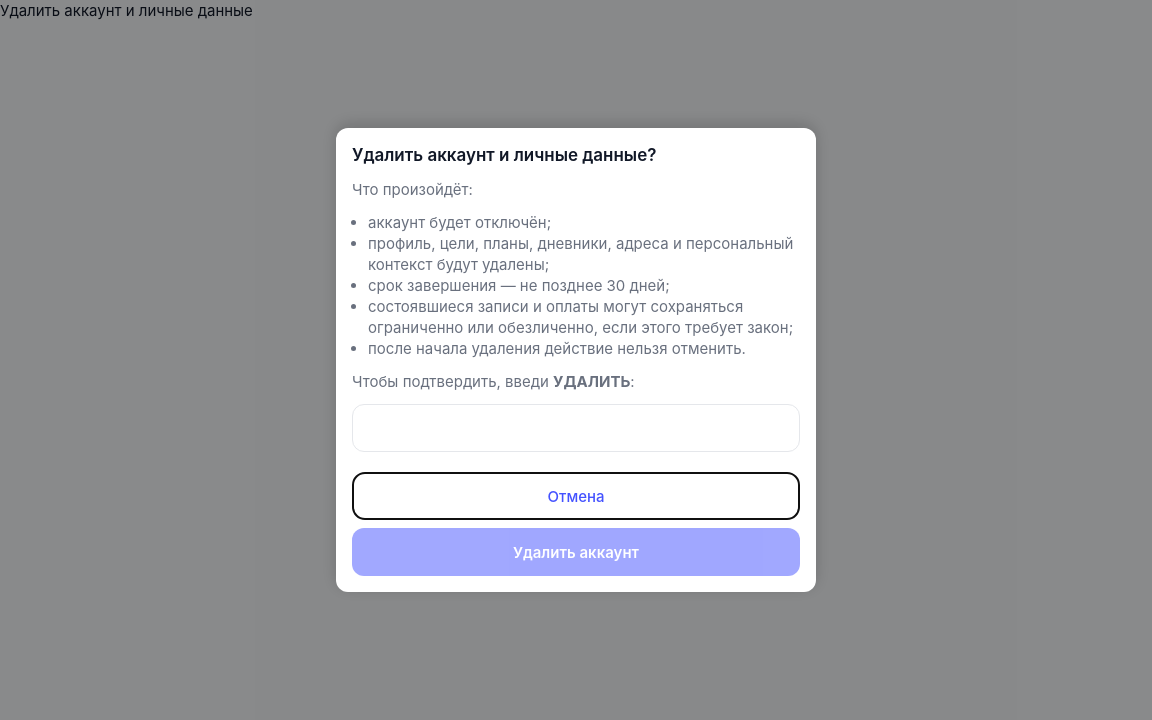
PersonalDataDeleteSheet › keeps the destructive button inert until the token is typed
Check: the button "Удалить аккаунт" is disabled, box [352,528,800,576]
Type "удалить" into the field labelled "Чтобы подтвердить, введи УДАЛИТЬ:". click: x=576, y=428
box: [352,404,800,452]
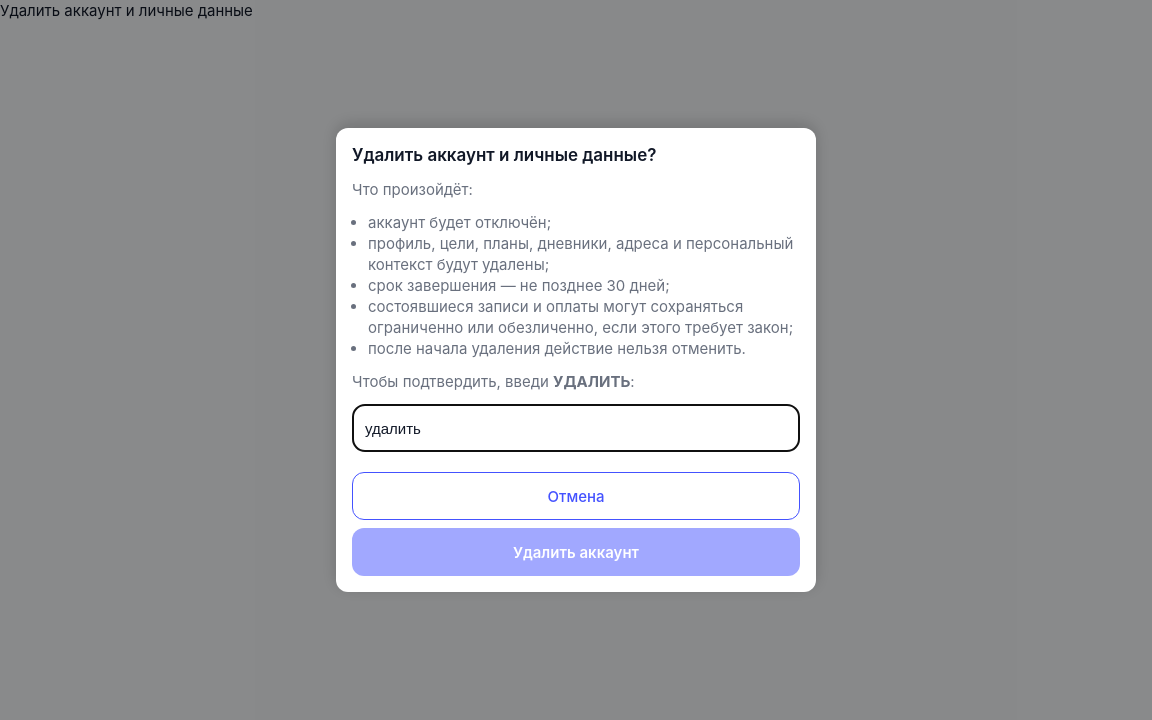
Click the button "Удалить аккаунт". click: x=576, y=552
box: [352,528,800,576]
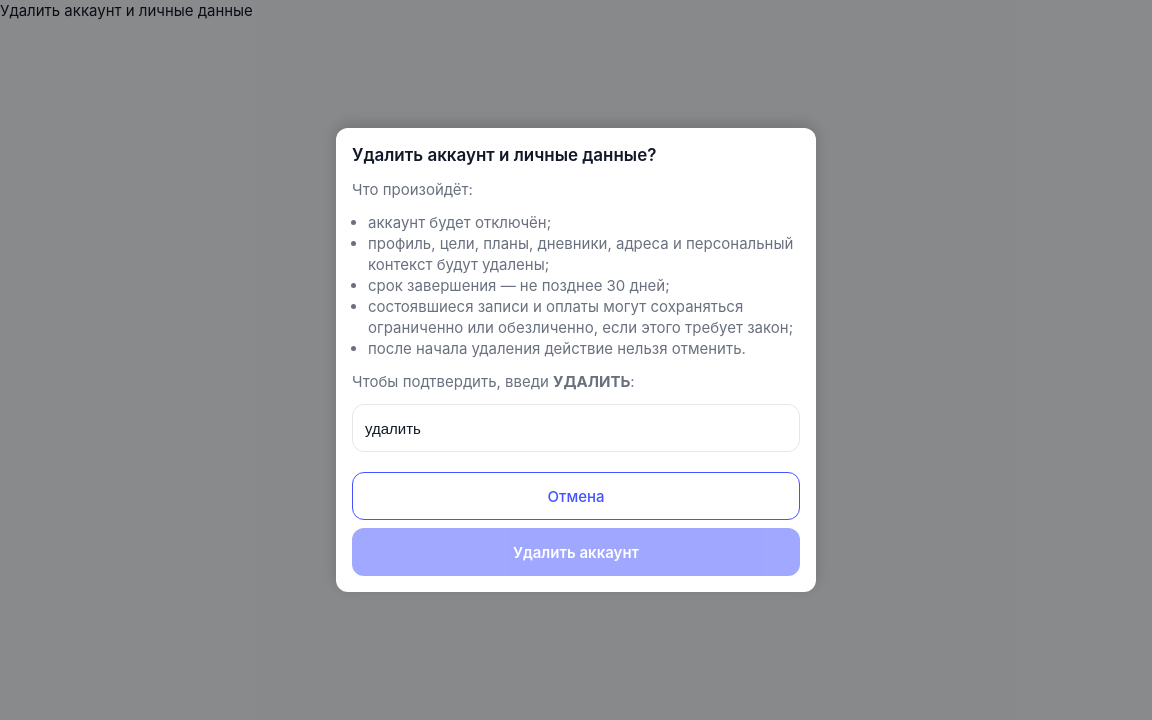
Replace the text in the field labelled "Чтобы подтвердить, введи УДАЛИТЬ:" with "УДАЛИТЬ". click: x=576, y=428
box: [352,404,800,452]
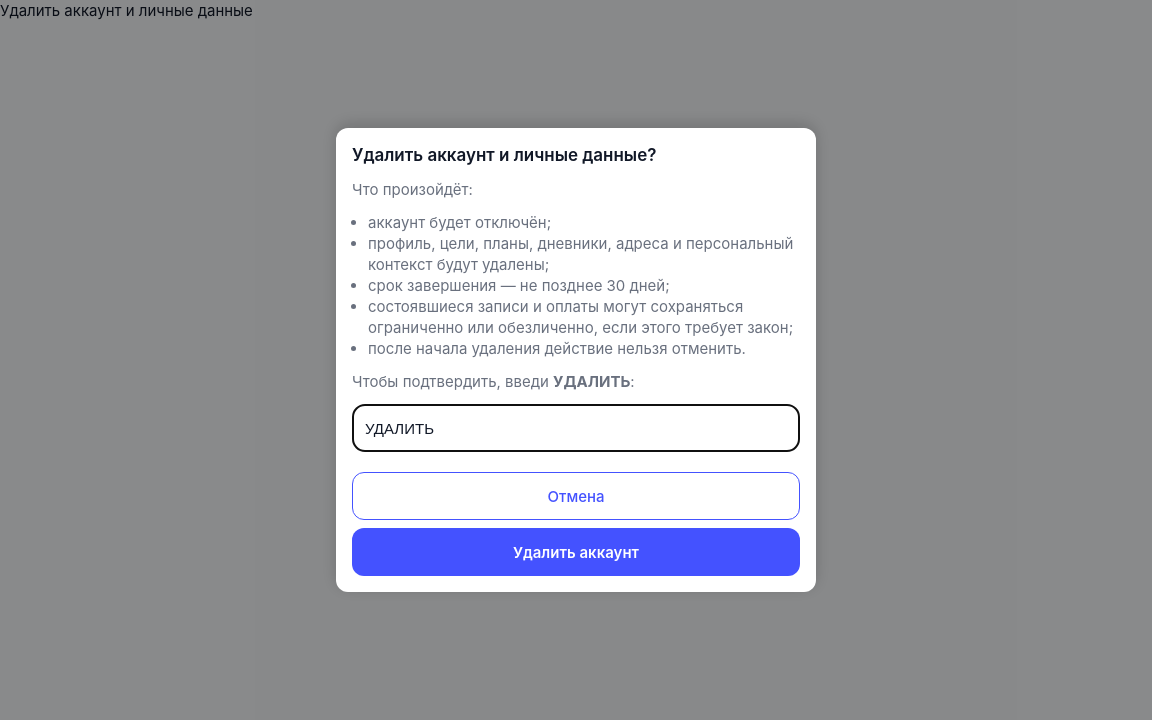
Check: the button "Удалить аккаунт" is enabled, box [352,528,800,576]
